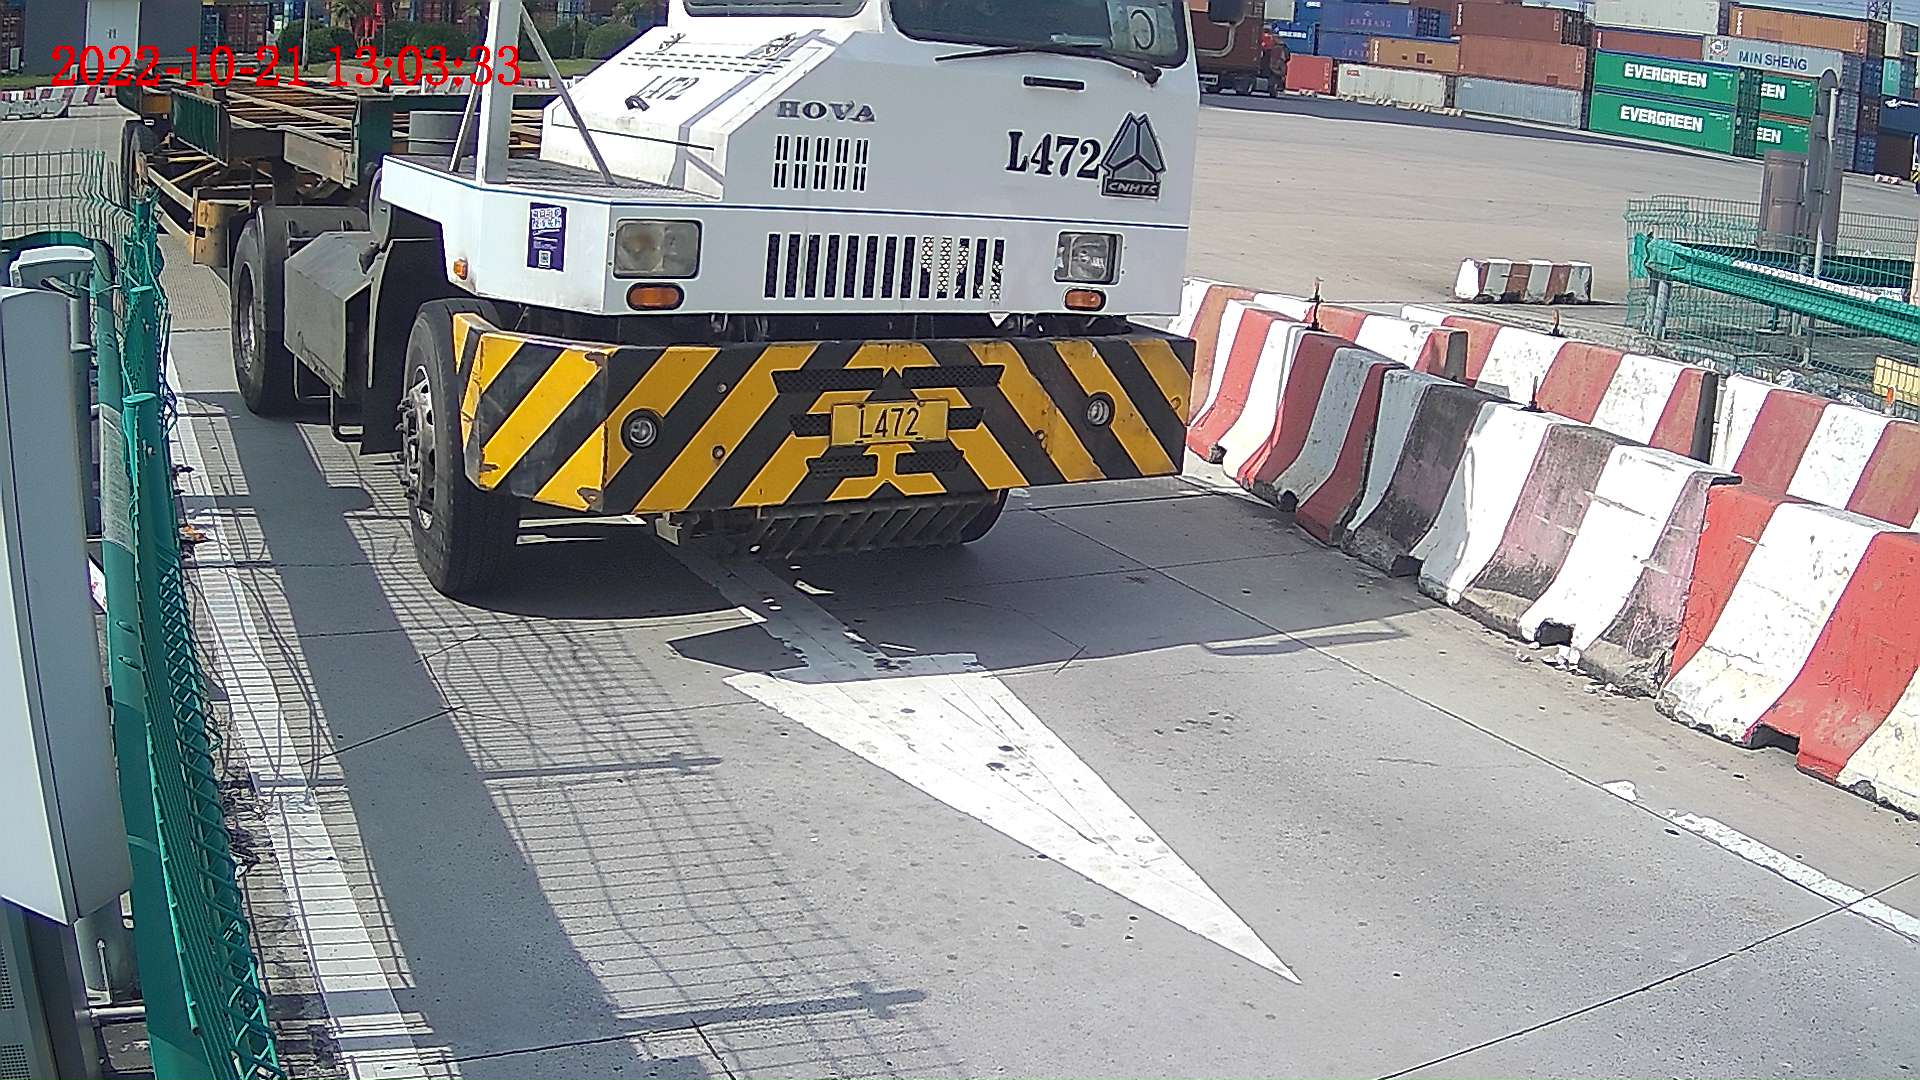head: (381, 1, 1200, 588)
plate: (830, 405, 946, 436)
